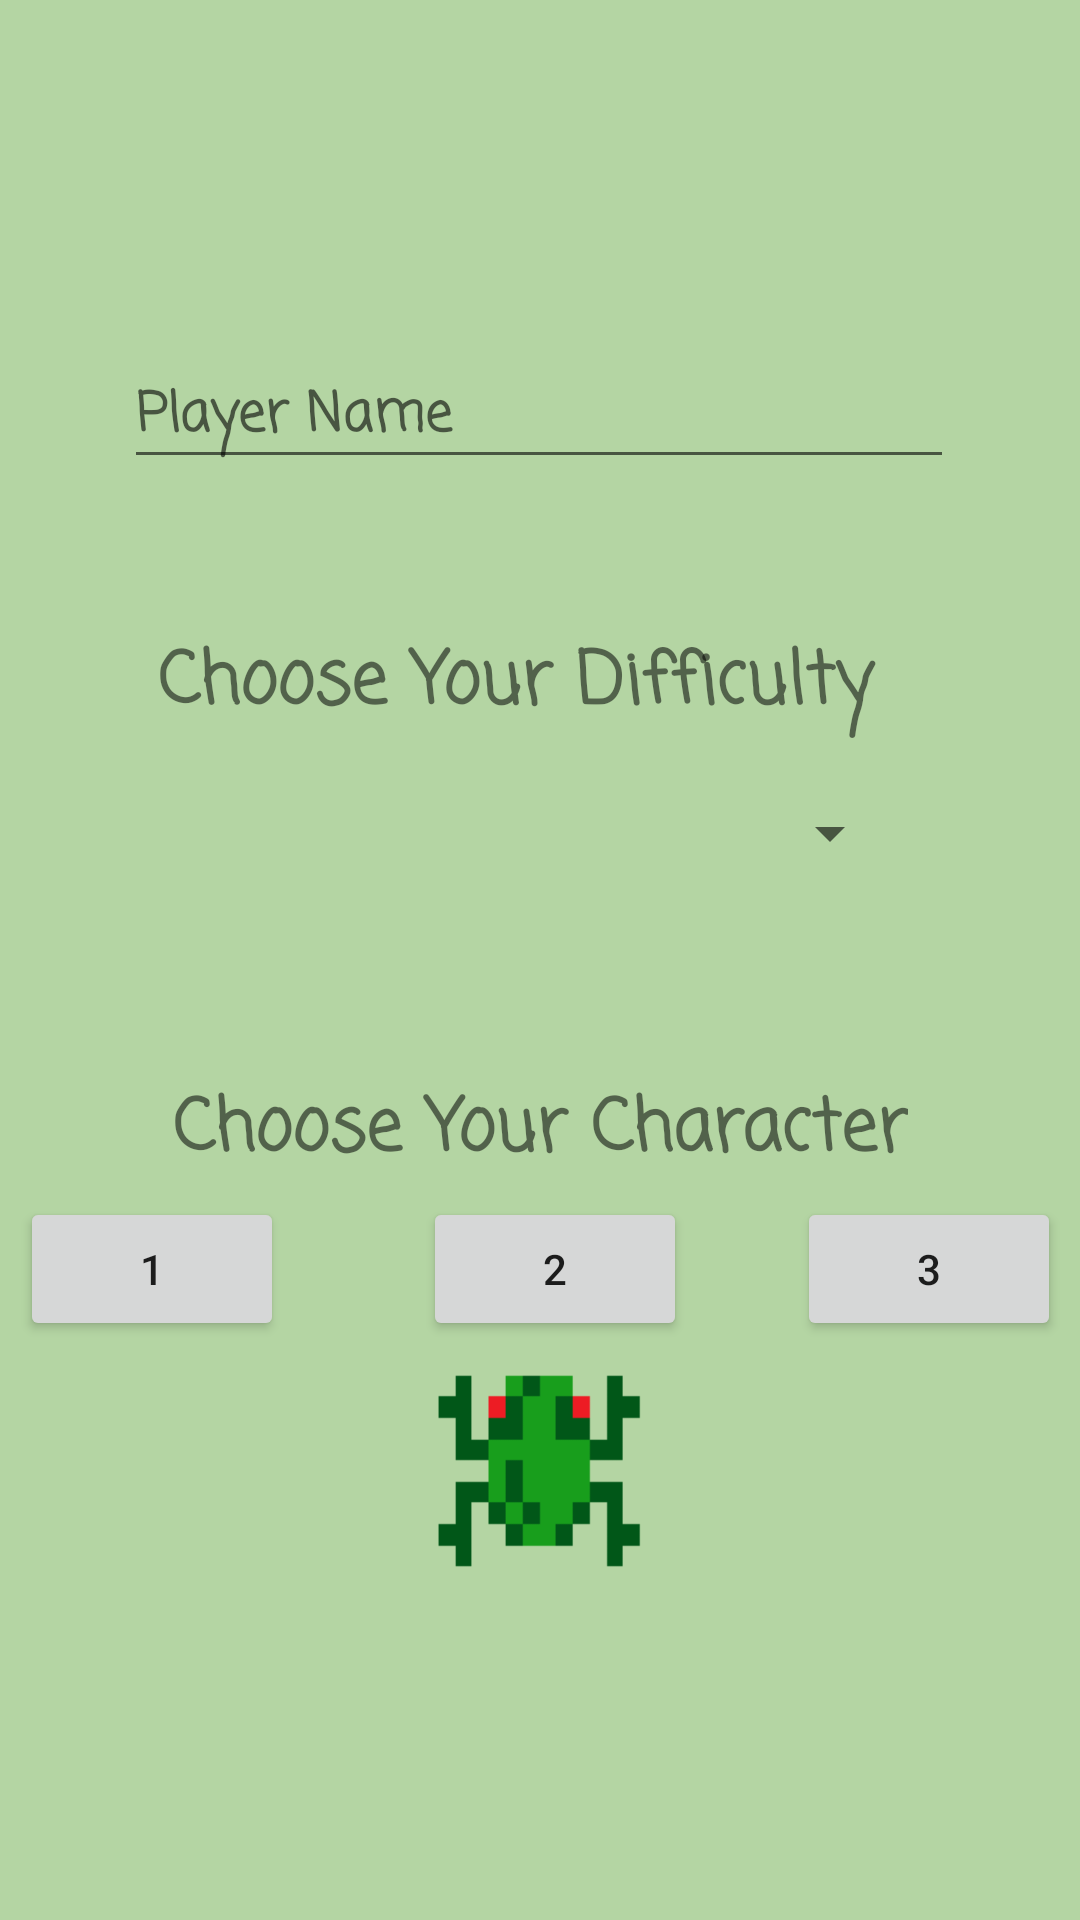

Where to tap for icons on this 1080px×1920px app screen, as [x,y]:
frog char: [539,1471]
